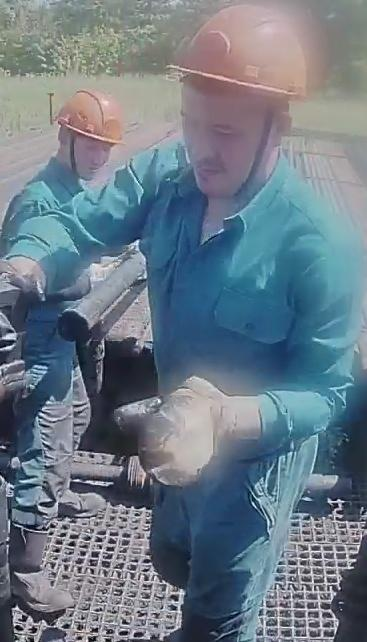gloves: (111, 372, 251, 488), (0, 249, 48, 356)
helmet: (166, 3, 310, 101), (55, 87, 126, 148)
vest: (143, 141, 367, 456), (2, 179, 102, 388)
